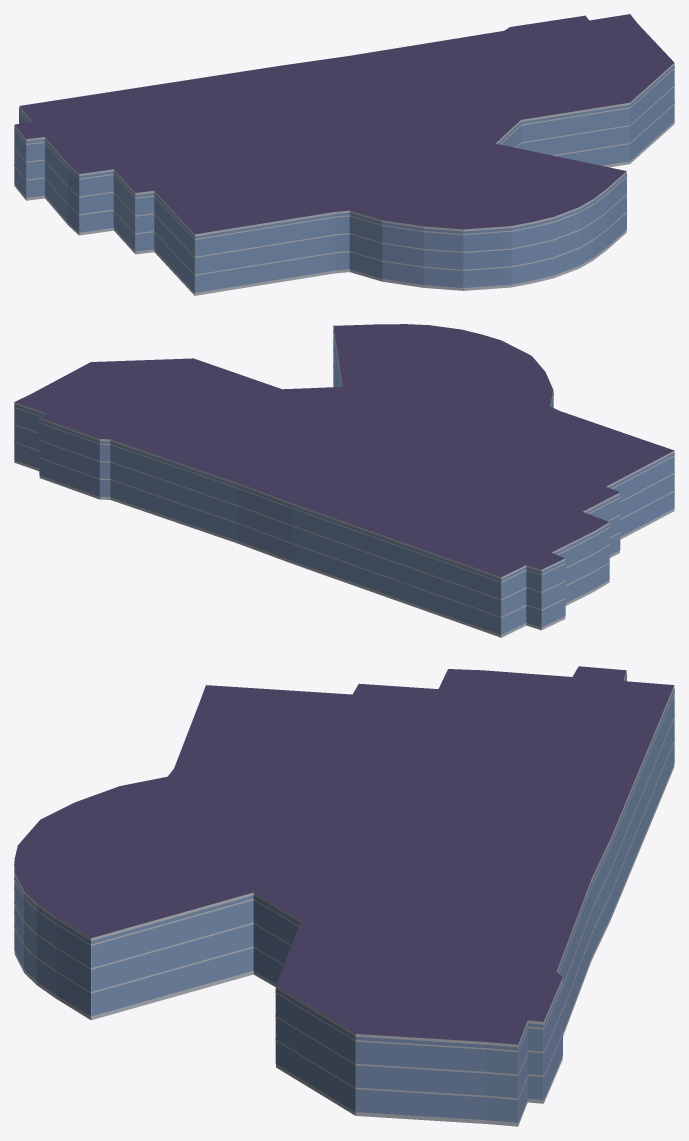
File: core-university-community-centre-day.glb
3 views of the same model, one above another, from view 1: azimuth 30°, elevation 25°; view 2: azimuth 150°, elevation 25°; view 3: azimuth 270°, elevation 25° (orthographic). The views are drawn at different scales.
Parts seen in each view (by area): view 1: campus/core-university-community-centre-day-0; view 2: campus/core-university-community-centre-day-0; view 3: campus/core-university-community-centre-day-0.
Boxes of the visible parts, x1,y1,x2,y2 form: campus/core-university-community-centre-day-0: [14, 14, 674, 295]; campus/core-university-community-centre-day-0: [14, 324, 674, 637]; campus/core-university-community-centre-day-0: [14, 666, 674, 1126].
Size of the model in its own units: 123 by 12.4 by 90.57.
